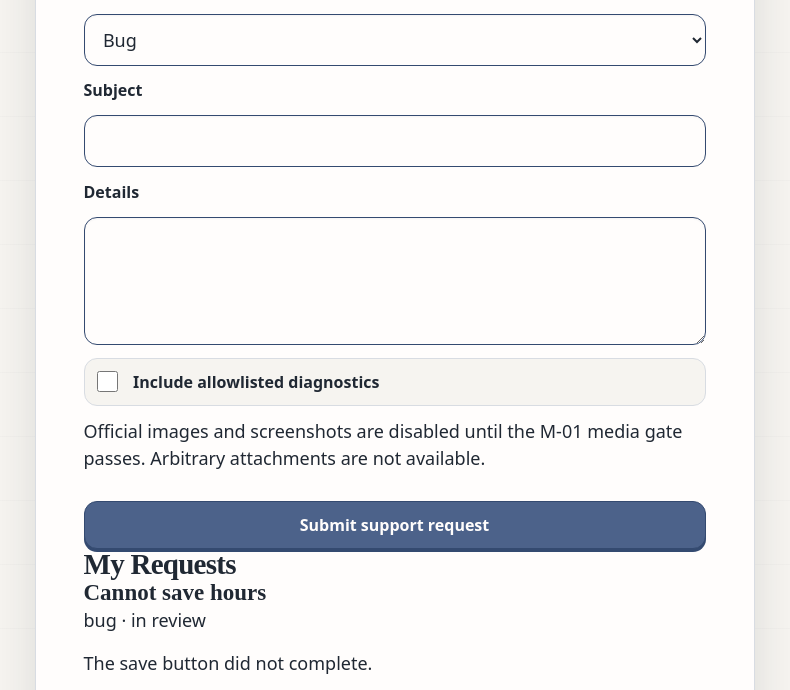
Test case: provider-neutral Store Portal boundary › keeps media and screenshot work visibly gated and supports bounded diagnostics
(page scrolled)
Check: the text "Official images and screenshots are disabled until the M-01 media gate passes." is shown, box [84,419,682,470]
Step 1. Click the checkbox labelled "Include allowlisted diagnostics" → click(107, 382), box [96,371,118,392]
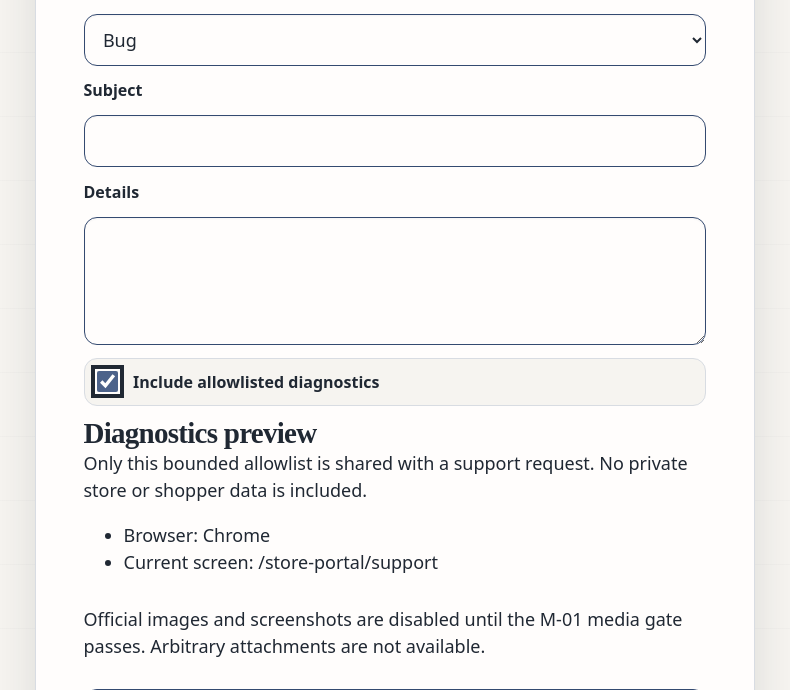
Check: the list item "Current screen: /store-portal/support" is shown, box [124,550,438,574]
